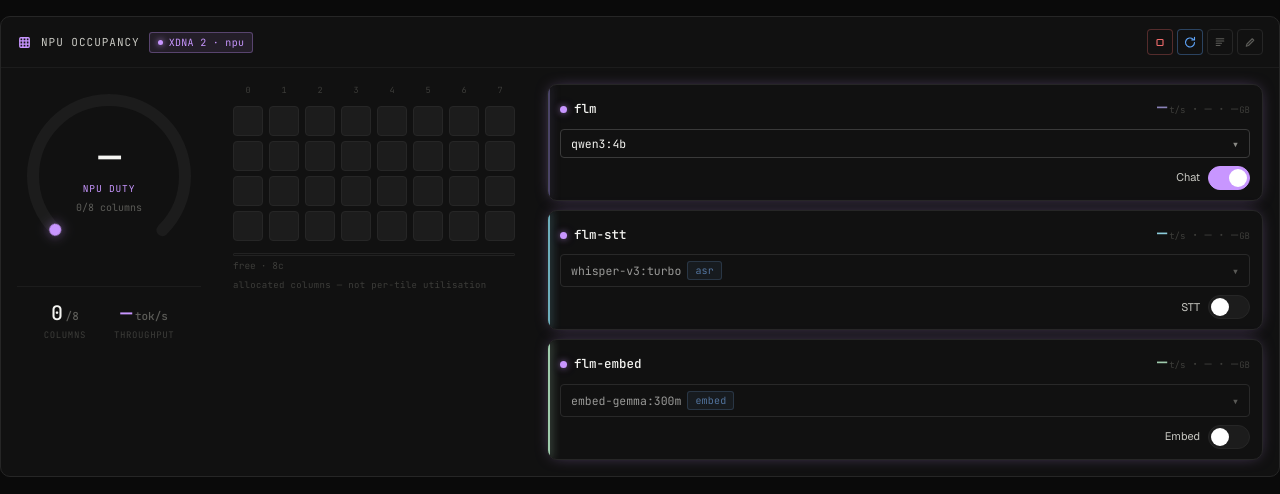
Test case: NPU card model picker › chat card lists only FLM chat models, with the runtime chip in the NPU tone
Click the dropdown labelled "qwen3:4b ▾" at coordinates (599, 143), box [560, 128, 1250, 158]
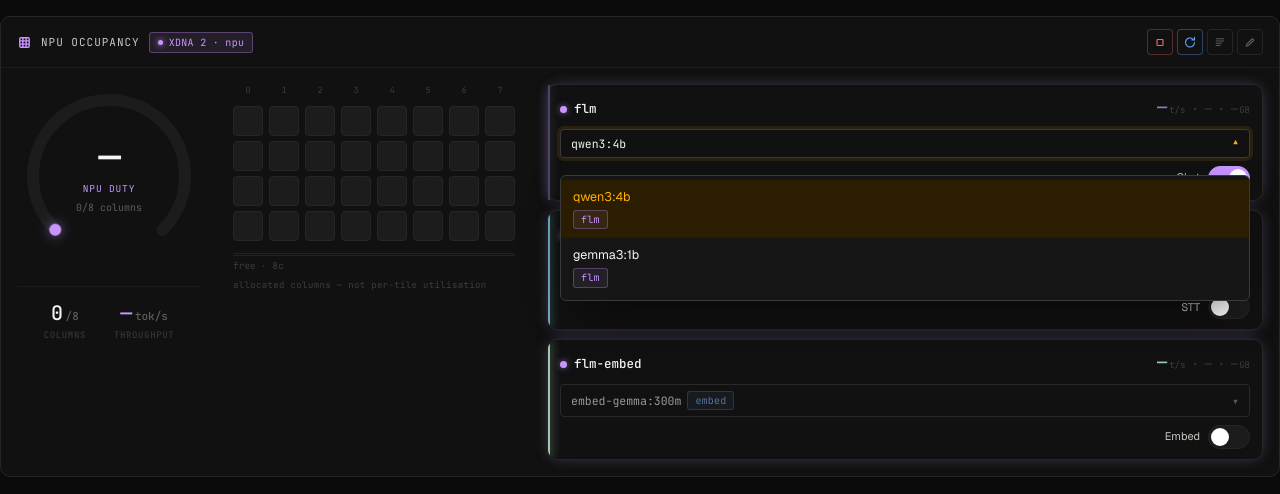
Expected: the text with class "dev-npu" below "gemma3:1b" reads "flm", [581, 271, 600, 284]
